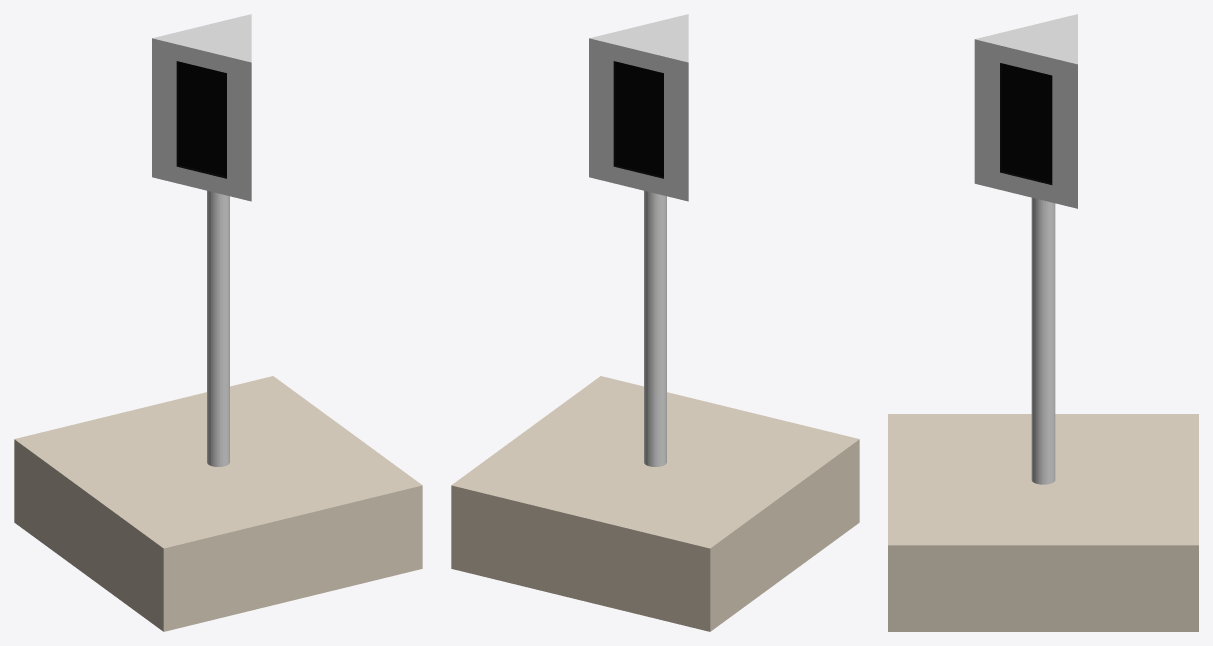
The model's file is robotx_light_buoy.dae.
3 views of the same model, side by side, from view 1: azimuth 30°, elevation 25°; view 2: azimuth 150°, elevation 25°; view 3: azimuth 270°, elevation 25° (orthographic). The views are drawn at different scales.
Visible parts, largest first — view 1: ShapeIndexedFaceSet; view 2: ShapeIndexedFaceSet; view 3: ShapeIndexedFaceSet.
Boxes of the visible parts, x1,y1,x2,y2 form: ShapeIndexedFaceSet: (14,14,422,631); ShapeIndexedFaceSet: (451,14,859,631); ShapeIndexedFaceSet: (888,14,1198,631).
Size of the model in its own units: 0.9906 by 0.9906 by 1.85.
